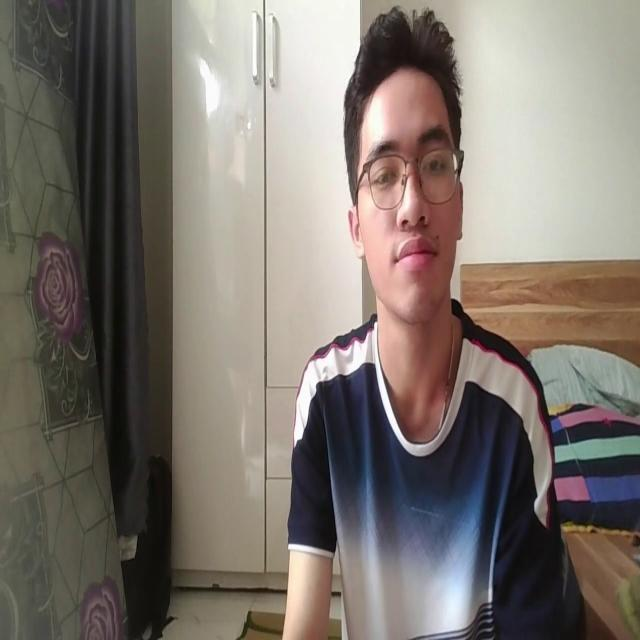student: (280, 0, 562, 640)
